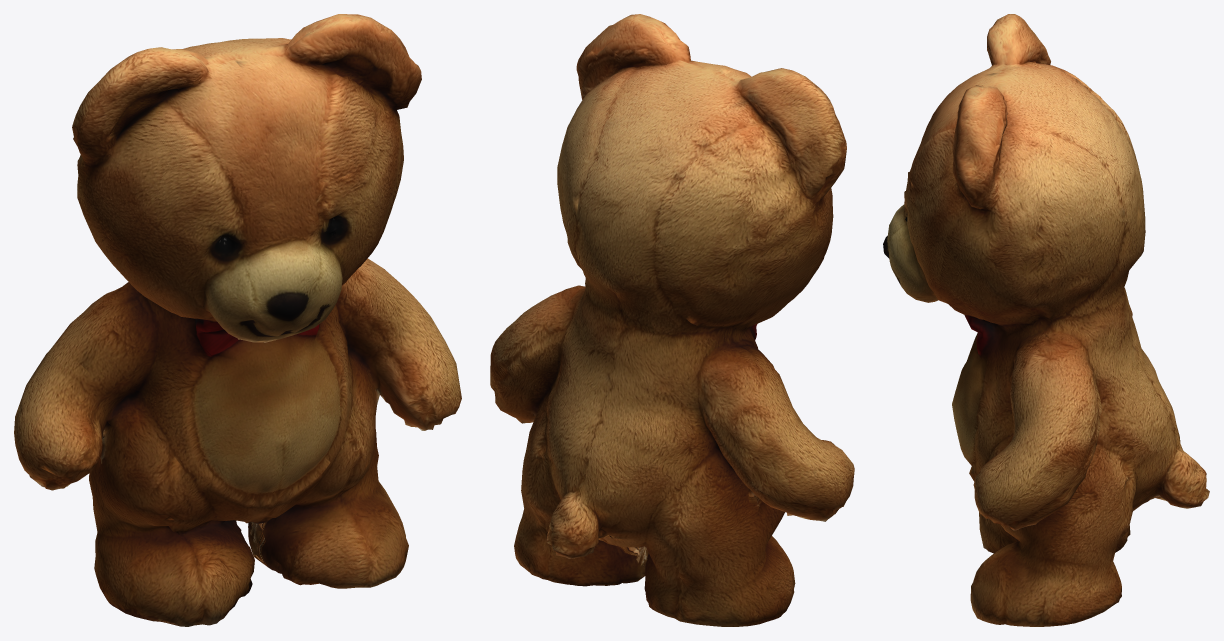
File: teddy_bear.glb
3 renders of one model, left to right at view 1: azimuth 30°, elevation 25°; view 2: azimuth 150°, elevation 25°; view 3: azimuth 270°, elevation 25°, orthographic. The views are drawn at different scales.
Parts seen in each view (by area): view 1: Model.001; view 2: Model.001; view 3: Model.001.
Boxes of the visible parts, bbox=[...] form: Model.001: bbox=[14, 14, 461, 626]; Model.001: bbox=[490, 14, 854, 626]; Model.001: bbox=[883, 14, 1209, 626].
Size of the model in its own units: 167 by 228 by 132.
Materials: 1 (1 with a texture image).
